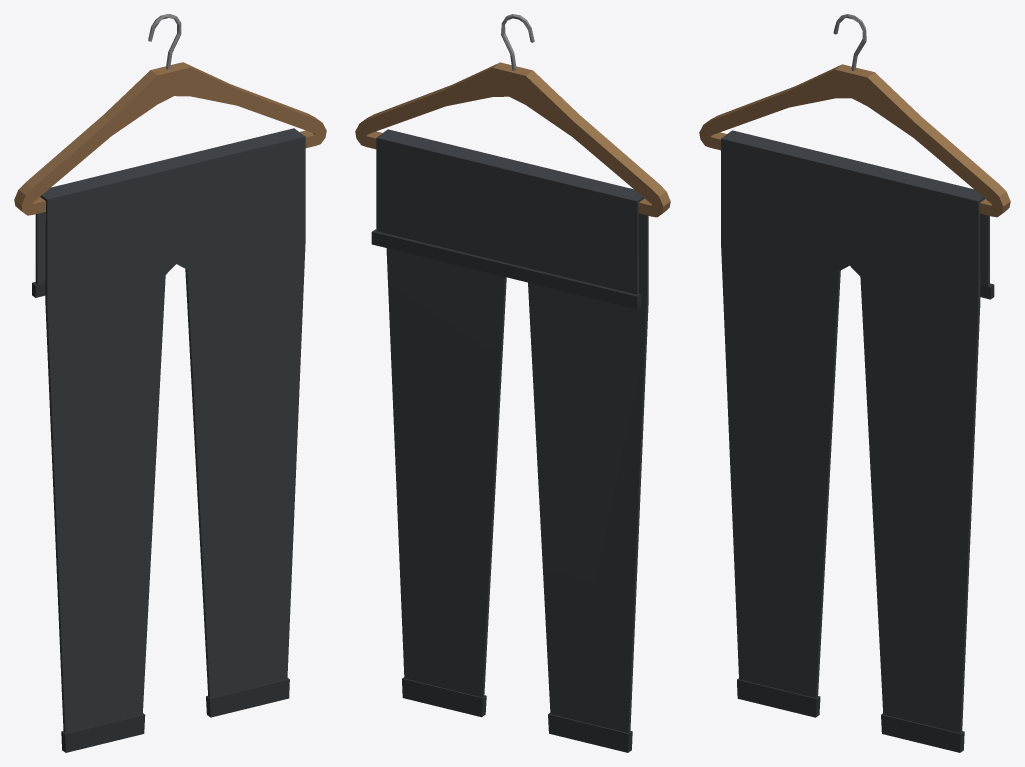
The model's file is Clothes5_C2.fbx.
The picture shows the model from 3 angles, left to right: view 1: azimuth 30°, elevation 25°; view 2: azimuth 150°, elevation 25°; view 3: azimuth 330°, elevation 25°; orthographic projection.
Visible parts, largest first — view 1: Clothes5_C2; view 2: Clothes5_C2; view 3: Clothes5_C2.
Boxes of the visible parts, <box> form: Clothes5_C2: <box>14,14,326,752</box>; Clothes5_C2: <box>355,14,670,752</box>; Clothes5_C2: <box>699,14,1010,752</box>.
Bounding box in the file's own units: 42.14 × 93.33 × 3.43.
